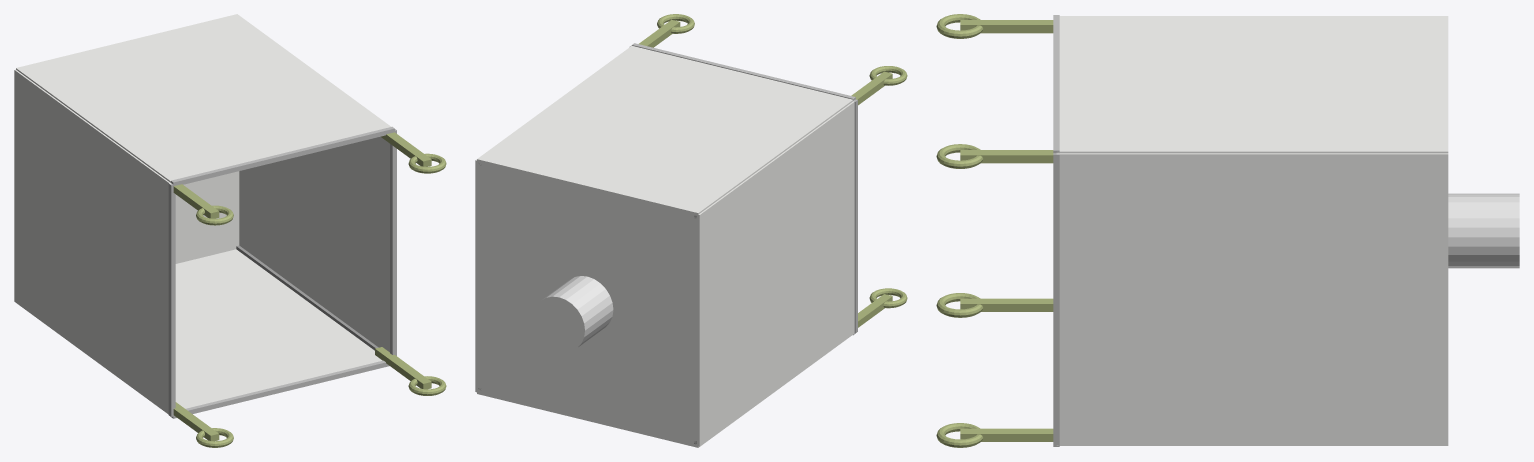
File: modelo-boca-abierta-valvula.glb
3 views of the same model, side by side, from view 1: azimuth 30°, elevation 25°; view 2: azimuth 150°, elevation 25°; view 3: azimuth 270°, elevation 25° (orthographic). The views are drawn at different scales.
Parts seen in each view (by area): view 1: left_shell, back_shell, right_shell, front_shell, bottom, top_left_rim, top_back_rim, top_front_rim, top_right_rim, side_seam_0.438, loop_strap_1, loop_strap_0 (+6 smaller); view 2: bottom, left_shell, back_shell, accesorio_abierta_valvula, top_left_rim, right_shell, top_back_rim, front_shell, loop_strap_2, loop_strap_0, loop_strap_3, loop_top_0 (+2 smaller); view 3: right_shell, back_shell, accesorio_abierta_valvula, top_right_rim, loop_strap_1, loop_strap_0, loop_strap_2, loop_strap_3, top_back_rim, loop_top_0, loop_top_1, loop_top_3 (+1 smaller).
Part boxes in pixels (box(x1,y1,x2,y2)): left_shell: box(14, 69, 171, 413); back_shell: box(16, 14, 390, 182); right_shell: box(239, 136, 389, 352); front_shell: box(25, 249, 382, 414); bottom: box(175, 171, 239, 263); top_left_rim: box(168, 183, 175, 416); top_back_rim: box(171, 126, 394, 185); top_front_rim: box(171, 360, 389, 418); top_right_rim: box(390, 129, 396, 355); side_seam_0.438: box(236, 245, 378, 350); loop_strap_1: box(375, 347, 431, 389); loop_strap_0: box(173, 402, 219, 441); bottom: box(477, 162, 698, 445); left_shell: box(697, 100, 854, 446); back_shell: box(477, 46, 853, 215); accesorio_abierta_valvula: box(542, 276, 613, 346); top_left_rim: box(854, 99, 857, 333); right_shell: box(475, 159, 478, 392); top_back_rim: box(632, 43, 855, 100); front_shell: box(477, 351, 830, 447); loop_strap_2: box(851, 71, 892, 105); loop_strap_0: box(858, 294, 892, 327); loop_strap_3: box(639, 19, 680, 47); loop_top_0: box(869, 288, 907, 308); right_shell: box(1056, 153, 1448, 444); back_shell: box(1056, 16, 1448, 153); accesorio_abierta_valvula: box(1448, 193, 1519, 268); top_right_rim: box(1053, 153, 1059, 445); loop_strap_1: box(960, 428, 1053, 441); loop_strap_0: box(960, 298, 1053, 311); loop_strap_2: box(960, 20, 1053, 33); loop_strap_3: box(960, 150, 1053, 163); top_back_rim: box(1053, 15, 1059, 153); loop_top_0: box(936, 293, 983, 317); loop_top_1: box(936, 423, 983, 447); loop_top_3: box(936, 144, 983, 168).
Size of the model in its own units: 0.998 by 0.918 by 1.64.
